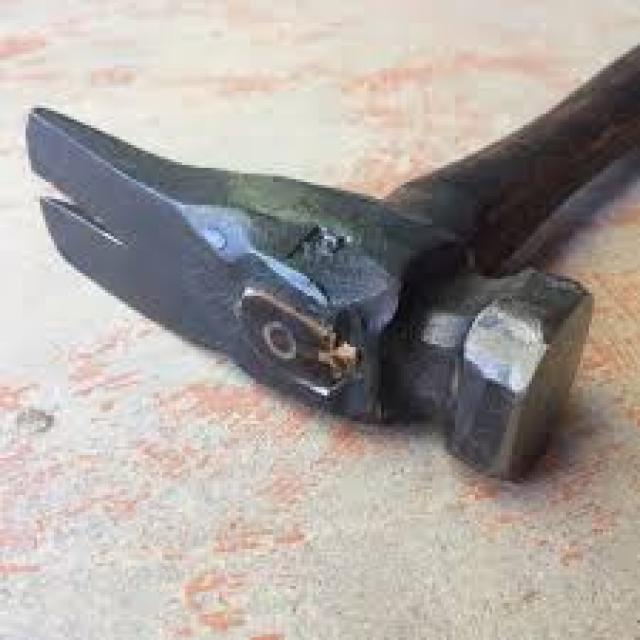hammer: (20, 39, 640, 494)
